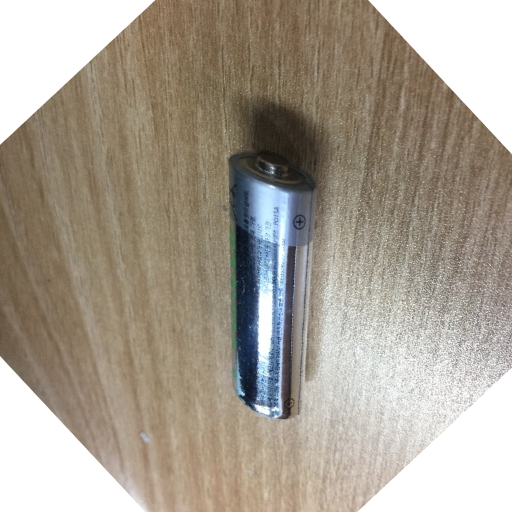Battery_0: (199, 117, 338, 430)
